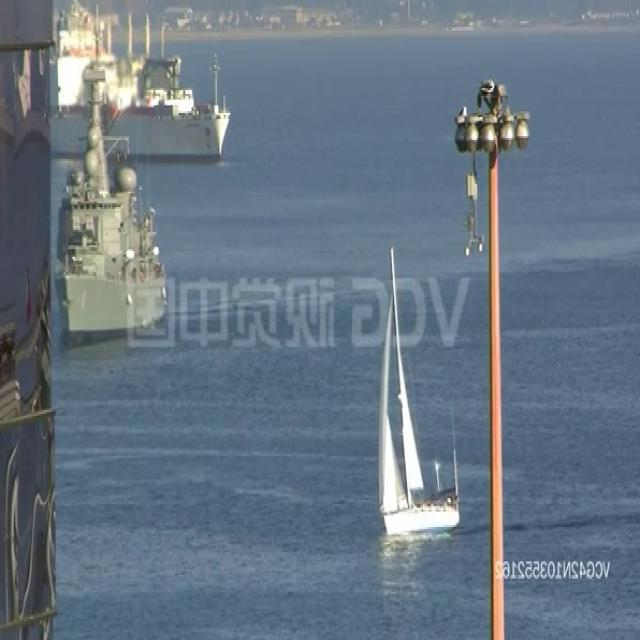navalvessels: (54, 50, 164, 342), (50, 0, 236, 163)
sailboat: (372, 240, 466, 539)
